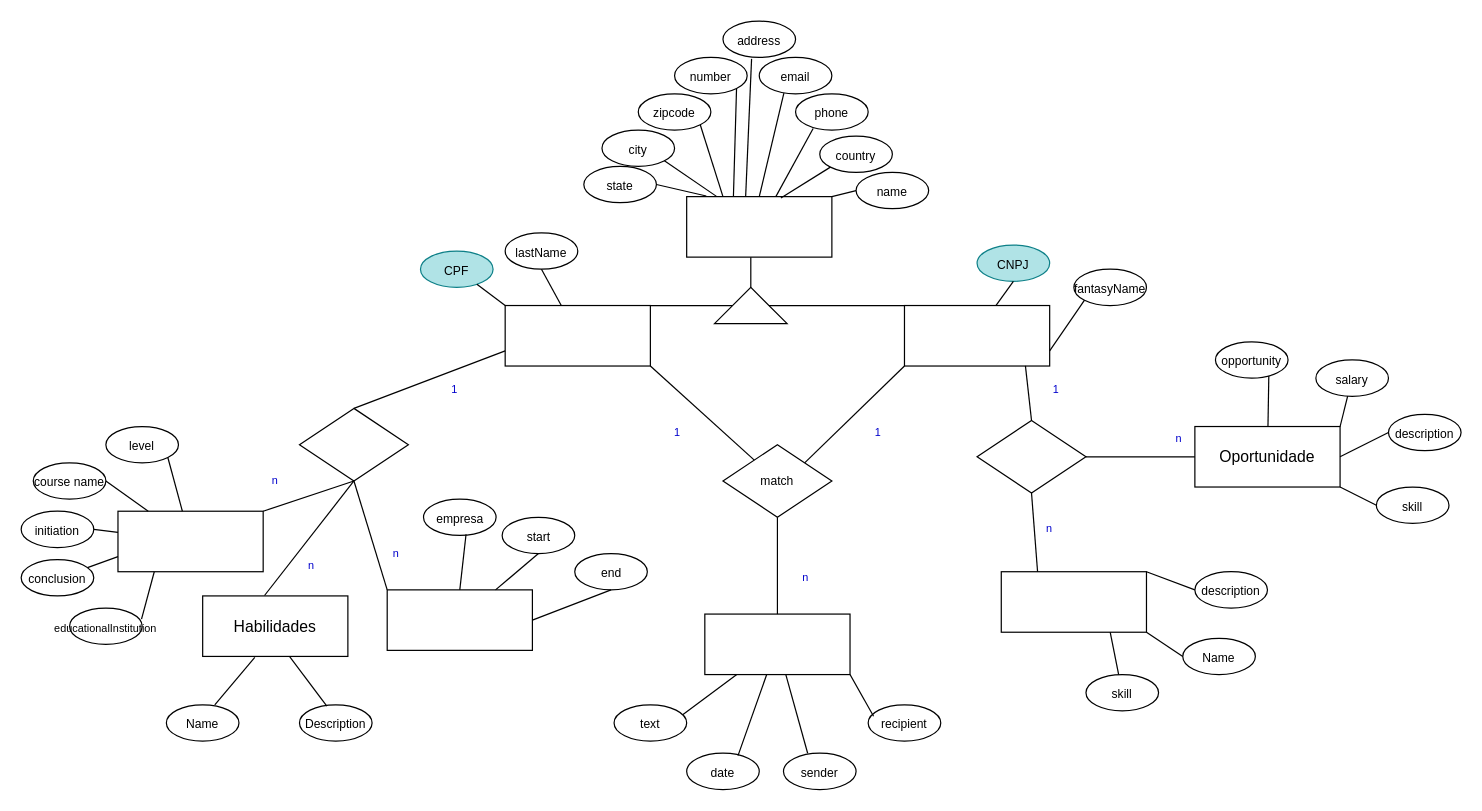
This 1482x811 diagram has some shape labels left out. The shapes that lost their labels are listed below. From the top down, each one's box as (x1, y1, x2, y2) in pixels, then its label:
(685, 195, 832, 257): USERS
(504, 304, 650, 366): Egressos
(903, 304, 1050, 366): Empresas
(298, 407, 408, 481): POSSUI
(976, 419, 1086, 493): Indica
(117, 510, 263, 572): Formação acadêmica
(386, 589, 532, 650): Experiência de trabalho
(1000, 571, 1146, 632): Capacitação
(704, 613, 850, 675): Chat
